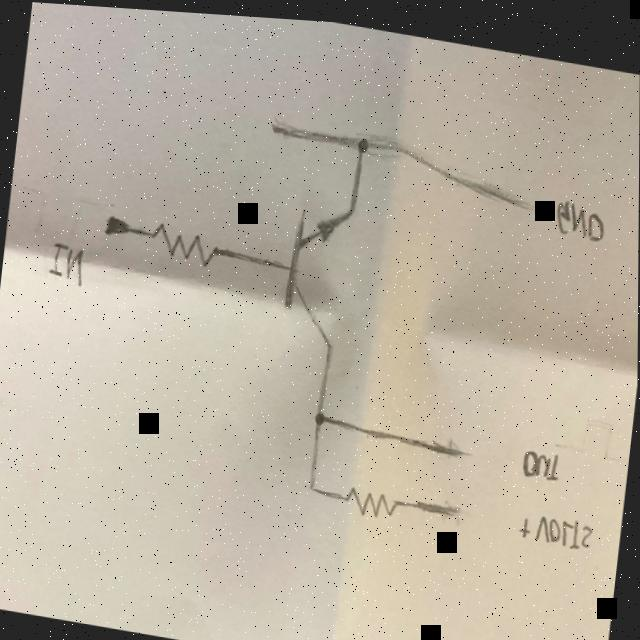junction: (342, 115, 385, 167), (305, 399, 332, 434), (307, 478, 317, 491)
resistor: (335, 469, 411, 526), (147, 214, 225, 269)
terminal: (100, 209, 136, 244), (448, 435, 474, 460), (443, 494, 467, 521), (517, 187, 537, 210), (267, 112, 283, 134)
text: (549, 188, 610, 243), (41, 235, 92, 292), (532, 503, 595, 546), (518, 436, 565, 481), (516, 506, 533, 536)
transistor: (264, 182, 376, 363)
